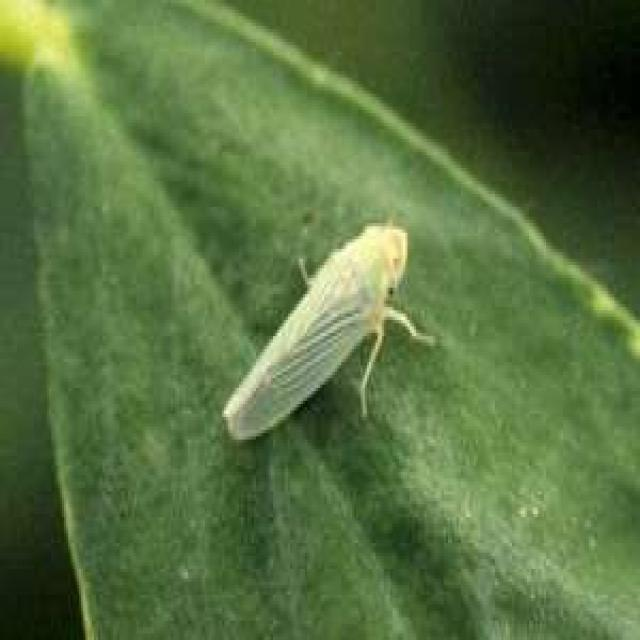Yechan: (218, 210, 437, 483)
